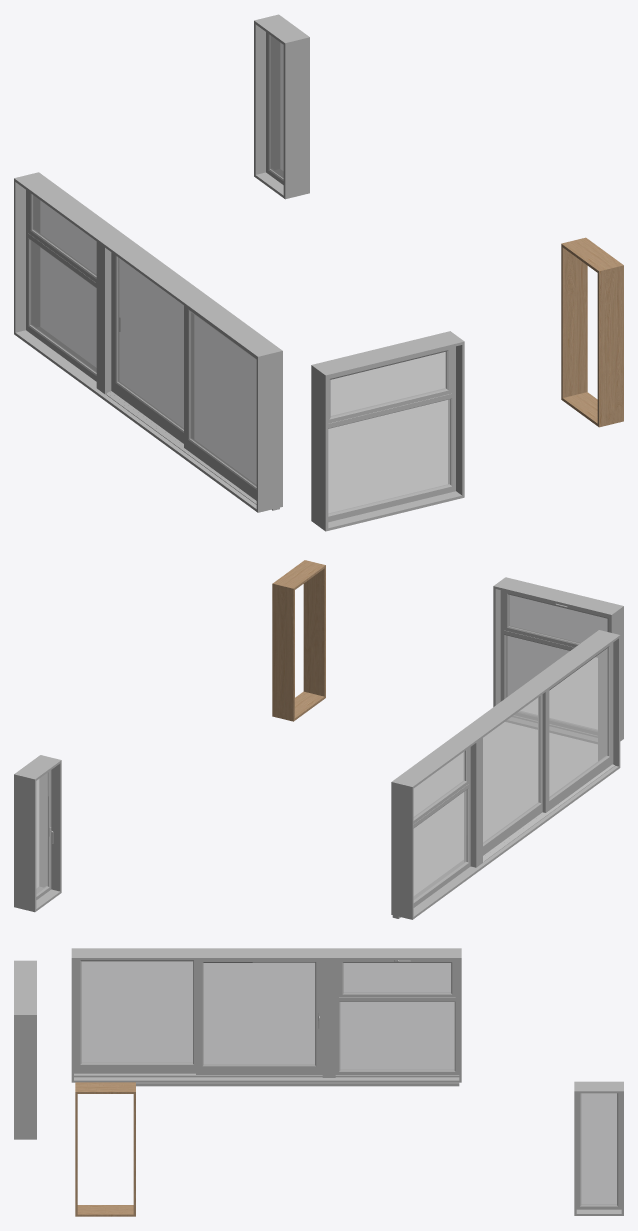
The model's file is Alumininum_Window.glb.
The picture shows the model from 3 angles, top to bottom: view 1: azimuth 30°, elevation 25°; view 2: azimuth 150°, elevation 25°; view 3: azimuth 270°, elevation 25°; orthographic projection. The views are drawn at different scales.
Visible parts, largest first — view 1: Alum_Window_Black_Base; view 2: Alum_Window_Black_Base; view 3: Alum_Window_Black_Base.
Part boxes in pixels (<box>): Alum_Window_Black_Base: <box>14,14,623,531</box>; Alum_Window_Black_Base: <box>14,560,623,919</box>; Alum_Window_Black_Base: <box>14,948,623,1216</box>.
Bounding box in the file's own units: 2.19 × 0.9101 × 3.92.
3 materials, 1 textured.
